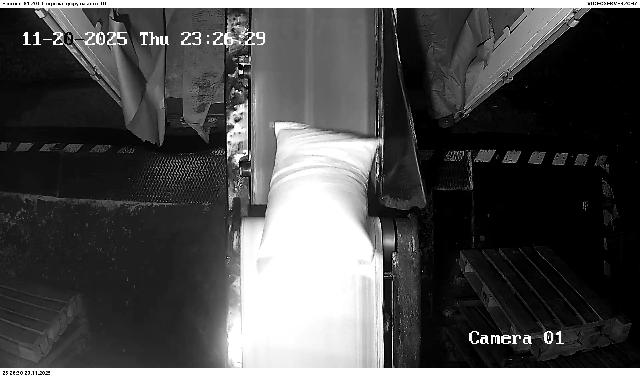bag: (257, 121, 384, 278)
